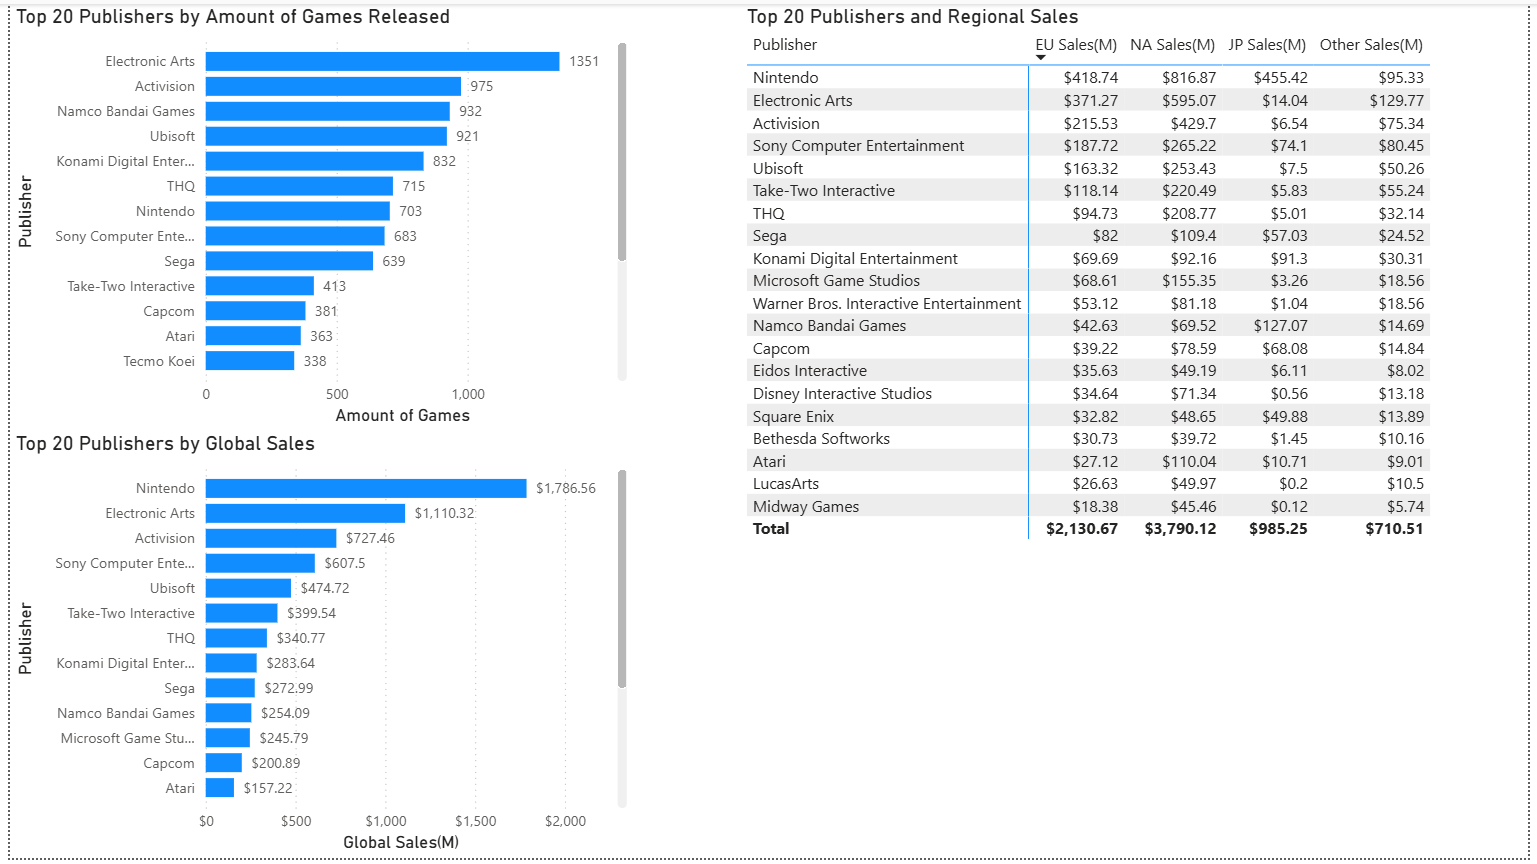

Layout of this report page (visuals, bound fields, positions):
{"tool":"powerbi","page":{"name":"Detailed Publishers and their performance","canvas":[1280,720],"ordinal":5},"visuals":[{"type":"clusteredBarChart","title":"Top 20 Publishers by Amount of Games Released","fields":{"Category":["vgsales.Publisher"],"Y":["CountNonNull(vgsales.Name)"]},"box":[0,0,525.2,359.9],"z":0},{"type":"pivotTable","title":"Top 20 Publishers and Regional Sales","fields":{"Rows":["vgsales.Publisher"],"Values":["Sum(vgsales.EU_Sales)","Sum(vgsales.NA_Sales)","Sum(vgsales.JP_Sales)","Sum(vgsales.Other_Sales)"]},"box":[616.7,0,663.3,464],"z":1000},{"type":"barChart","title":"Top 20 Publishers by Global Sales","fields":{"Category":["vgsales.Publisher"],"Y":["Sum(vgsales.Global_Sales)"]},"box":[0,359.9,525.2,359.9],"z":2000}]}

Visuals, with their boxes in screenshot pixels (x1, y1, x2, y2), scaled from the page's 1280x720 canvas onto the 1537x864 screenshot:
"Top 20 Publishers by Amount of Games Released" clusteredBarChart: bbox=(0, 0, 631, 432)
"Top 20 Publishers and Regional Sales" pivotTable: bbox=(741, 0, 1536, 557)
"Top 20 Publishers by Global Sales" barChart: bbox=(0, 432, 631, 863)
